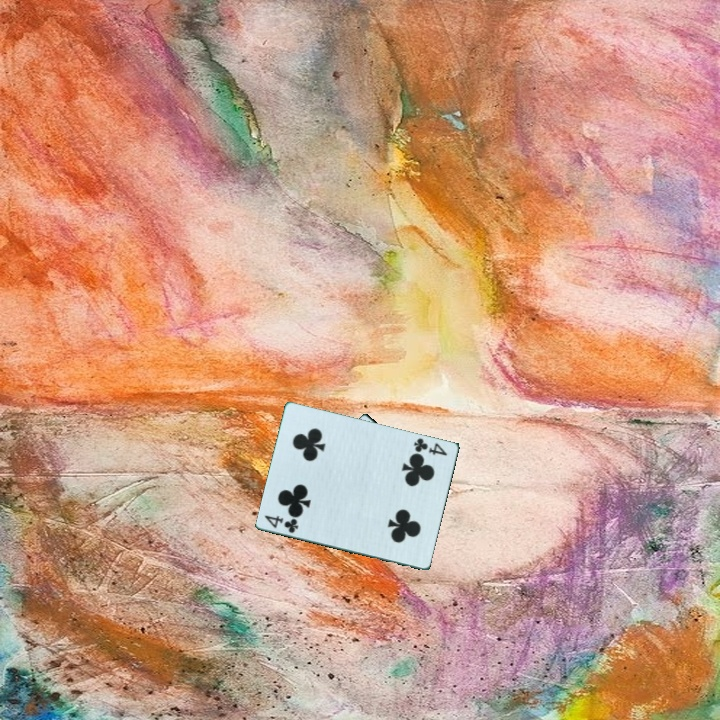4c: (261, 511, 302, 536), (410, 434, 450, 458)
